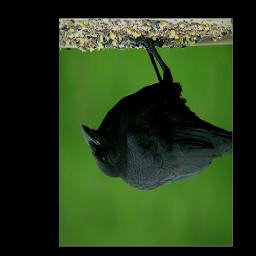Crow: (80, 31, 234, 190)
